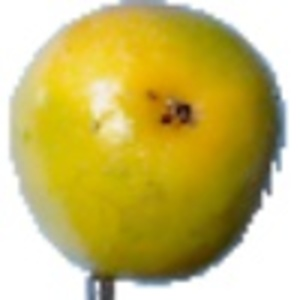maracujá: (8, 1, 289, 300)
